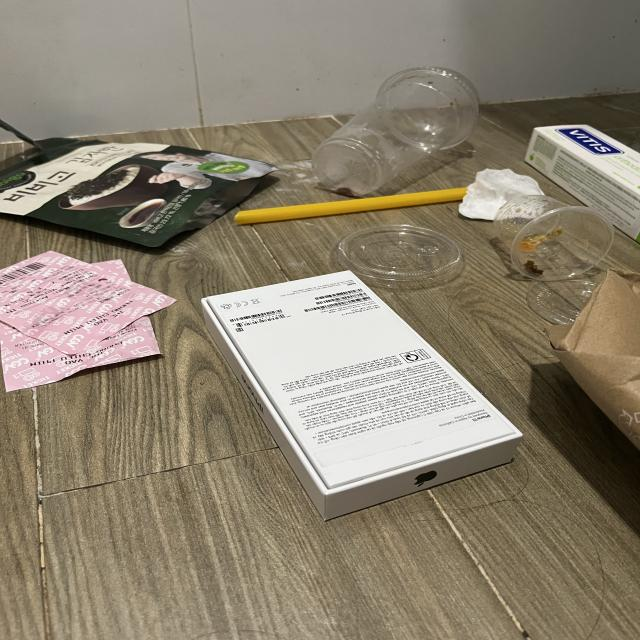cardboard box: (200, 270, 521, 523), (524, 123, 640, 243)
drinking straw: (235, 184, 466, 225)
lid: (333, 223, 463, 287), (528, 275, 599, 326)
napkin: (458, 167, 547, 221)
paper: (0, 249, 177, 391)
plastic glass: (309, 64, 478, 196)
snack package: (0, 136, 282, 248)
